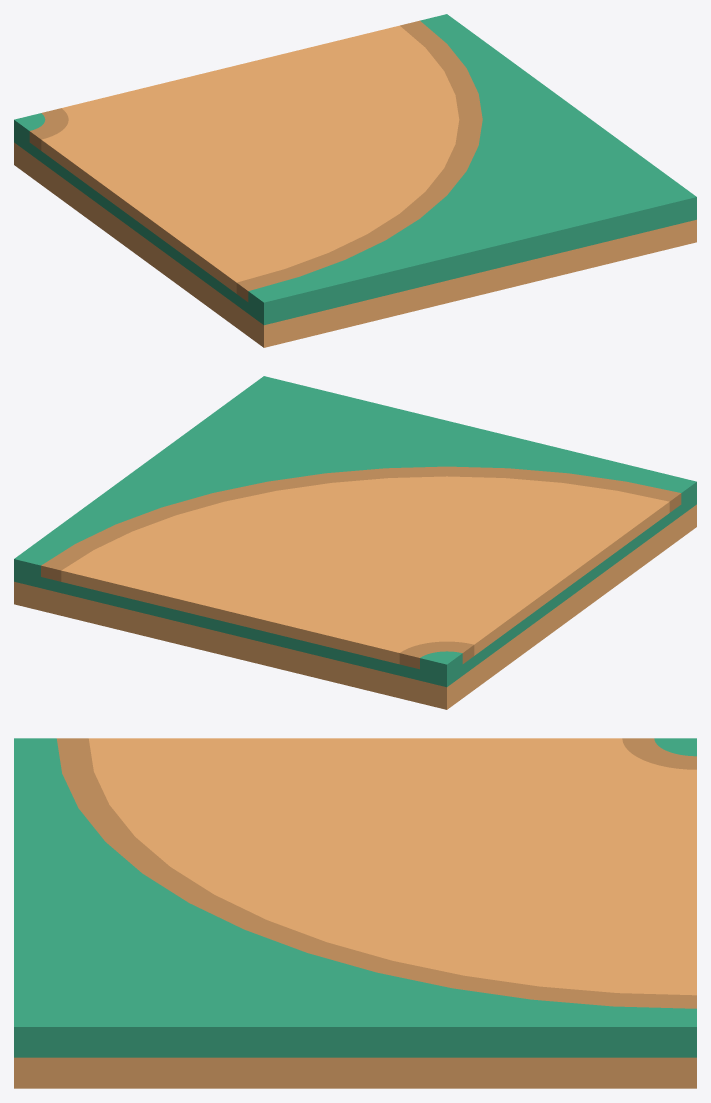
Rendered from tile_wideCorner(+).fbx.
The picture shows the model from 3 angles, top to bottom: view 1: azimuth 30°, elevation 25°; view 2: azimuth 150°, elevation 25°; view 3: azimuth 270°, elevation 25°; orthographic projection. The views are drawn at different scales.
Parts seen in each view (by area): view 1: Mesh_1; view 2: Mesh_1; view 3: Mesh_1.
Boxes of the visible parts, box(x1,y1,x2,y2) form: Mesh_1: box(14, 14, 696, 347); Mesh_1: box(14, 376, 696, 709); Mesh_1: box(14, 738, 696, 1088).
Size of the model in its own units: 200 by 20 by 200.
